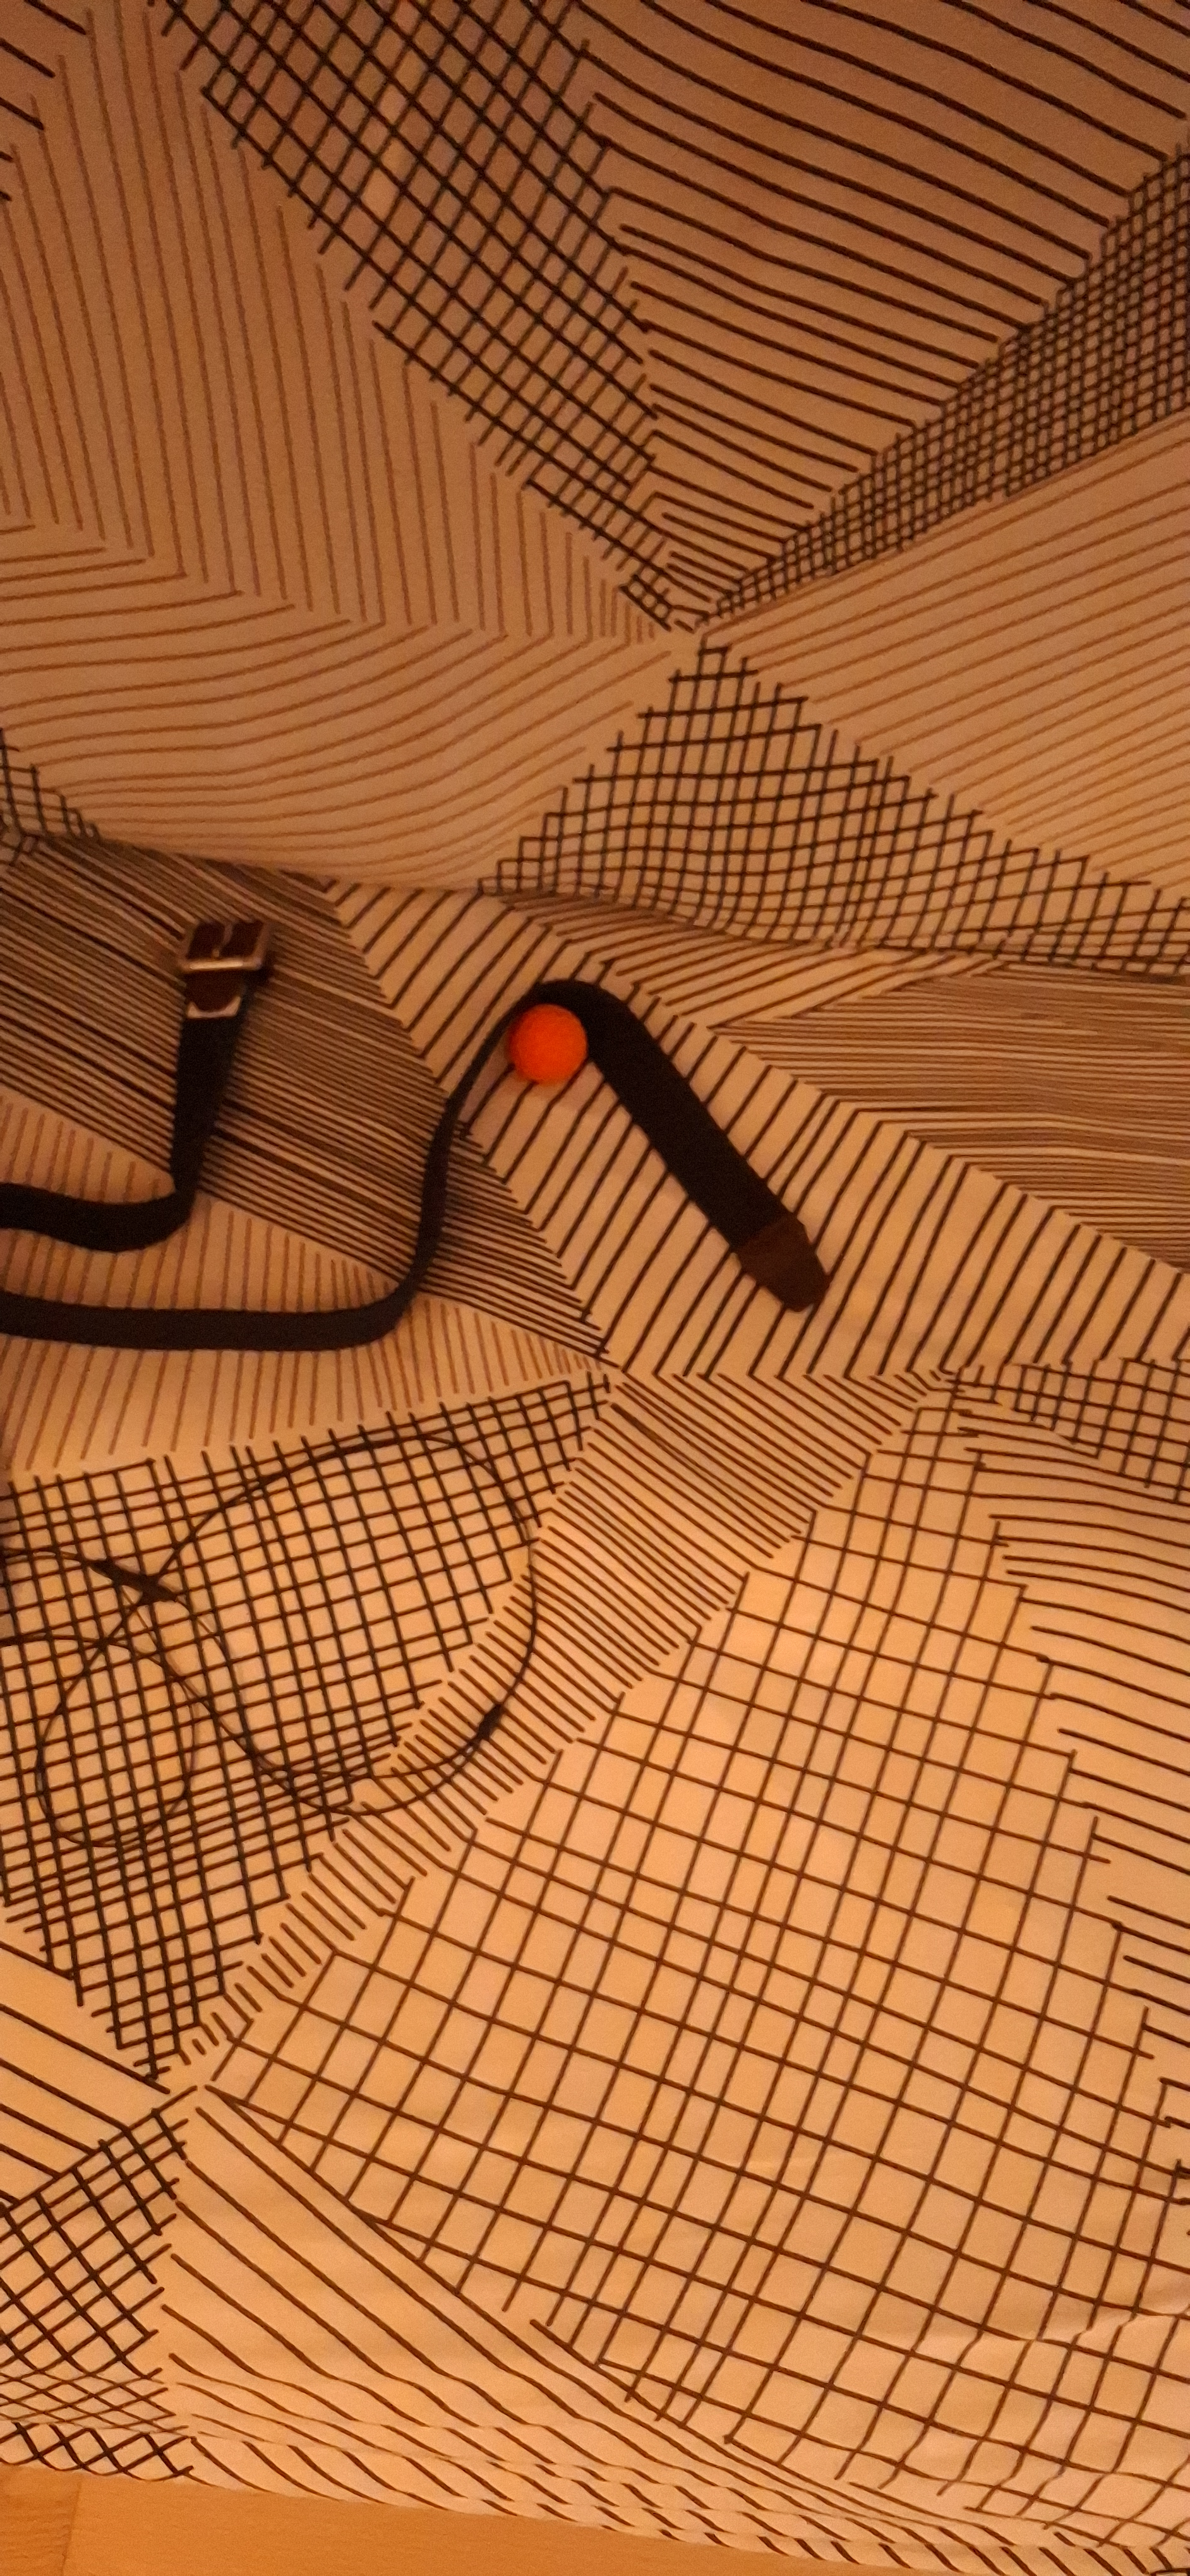ball: (464, 1303, 500, 1469)
